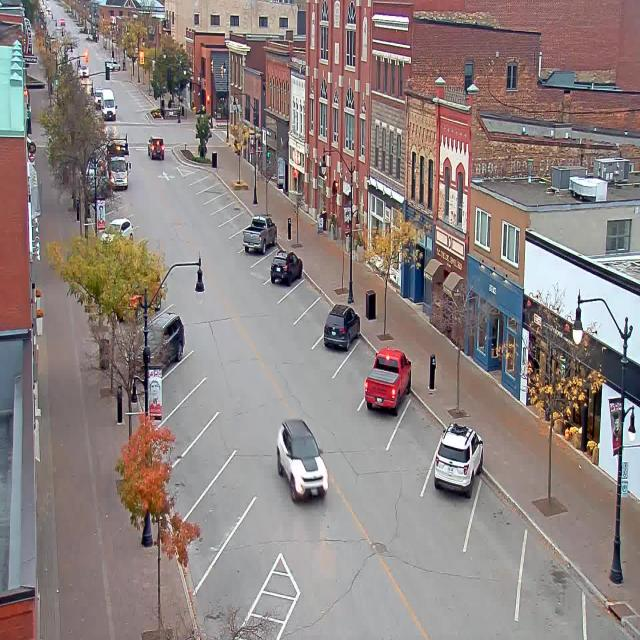available: (509, 544, 592, 635), (202, 497, 282, 581), (176, 452, 256, 529), (462, 493, 524, 587), (164, 411, 244, 468), (382, 408, 441, 469), (158, 374, 226, 422), (575, 592, 639, 640), (153, 349, 224, 391), (332, 346, 370, 403), (277, 279, 327, 309), (286, 306, 330, 338), (249, 247, 274, 287), (219, 214, 253, 235), (211, 200, 245, 218), (198, 184, 228, 200), (205, 193, 236, 208), (192, 175, 222, 188), (188, 168, 210, 177)
occupied: (434, 421, 484, 497), (364, 346, 412, 414), (141, 310, 185, 368), (323, 302, 360, 351), (242, 214, 277, 254), (270, 249, 303, 286)
